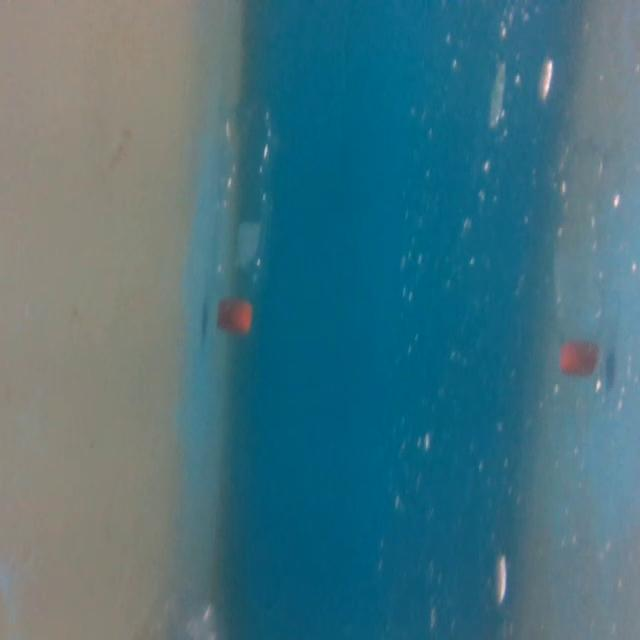plastic bottle: (212, 95, 280, 337)
